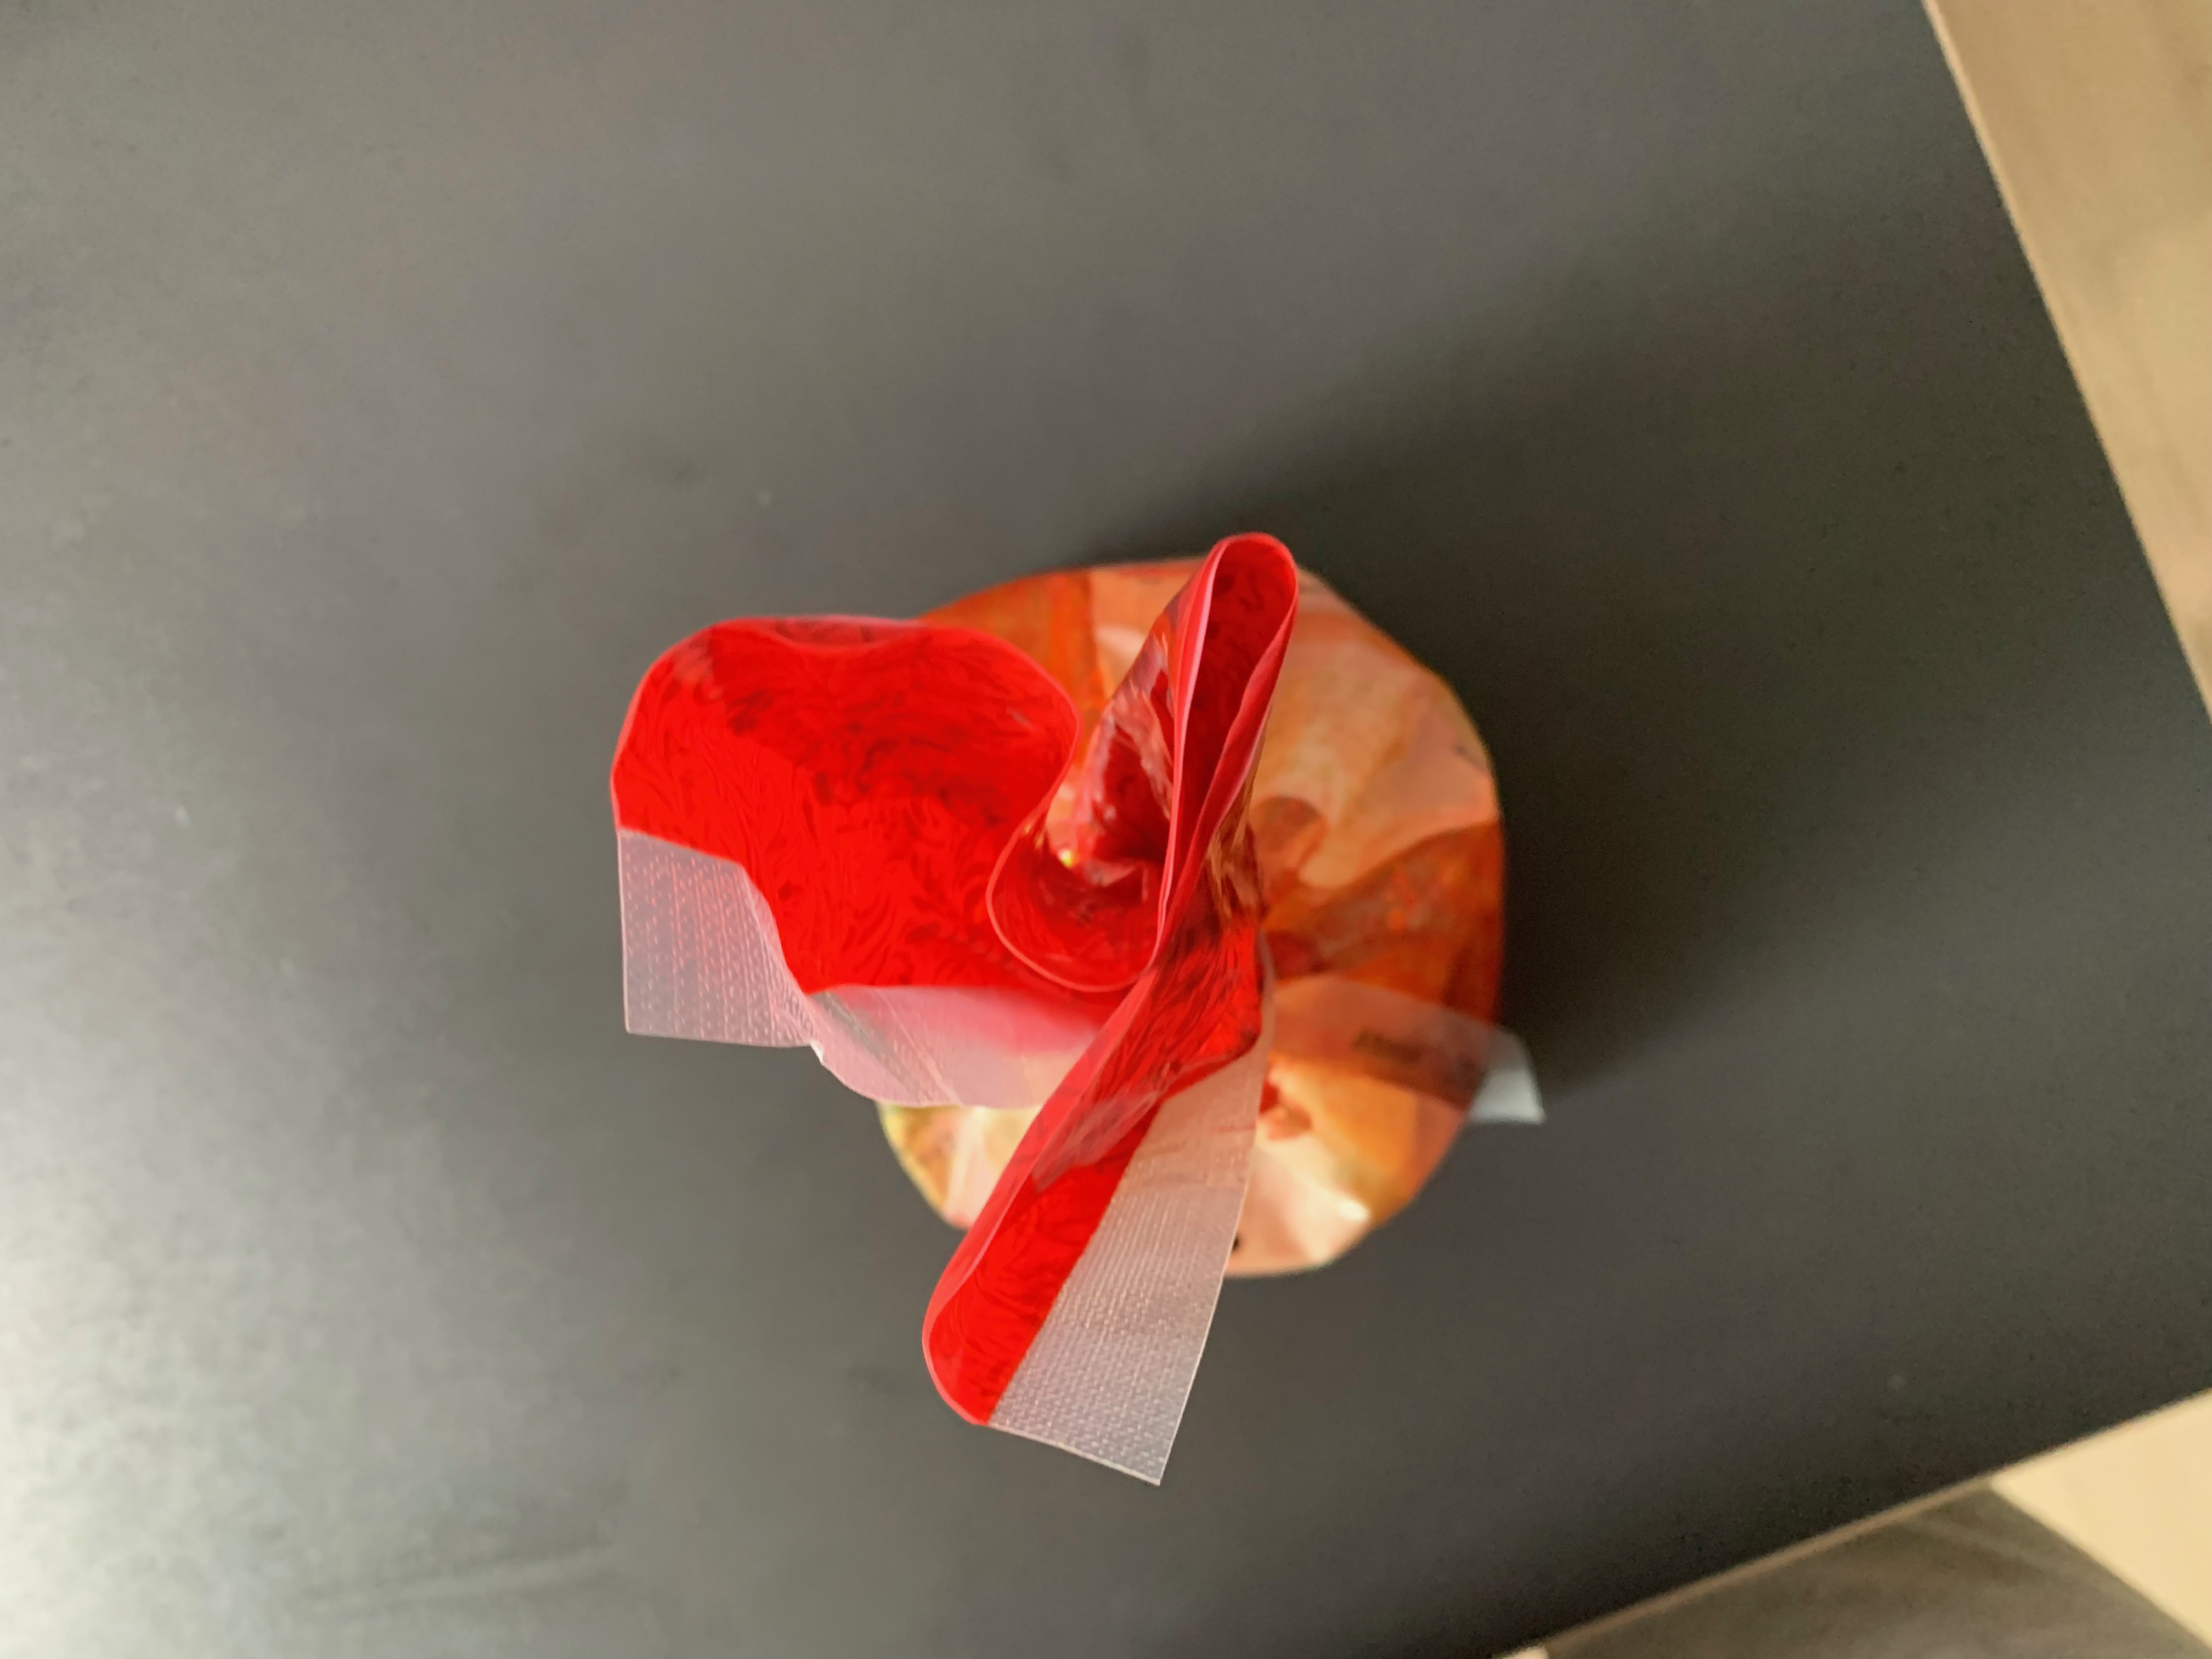kimchi: (608, 532, 1510, 1412)
